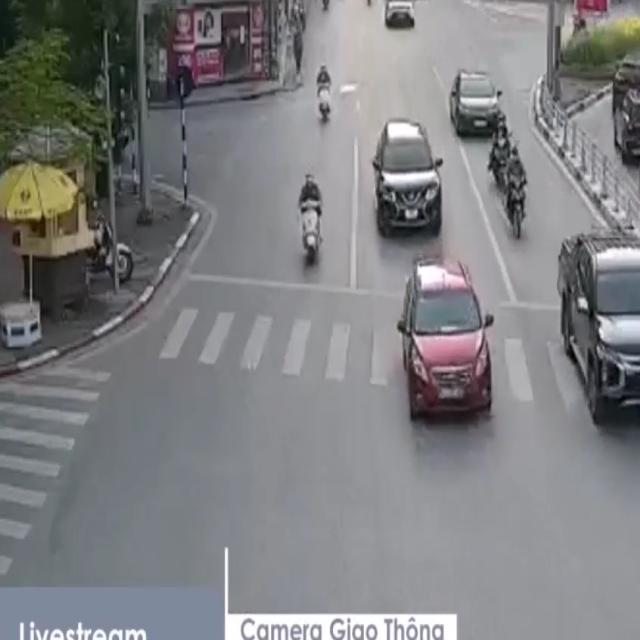car: (559, 231, 640, 423), (400, 257, 492, 418), (371, 117, 444, 236), (448, 71, 500, 137), (385, 0, 416, 31)
motorbike: (503, 145, 530, 241), (298, 169, 324, 268), (487, 110, 510, 191), (309, 63, 336, 128)
